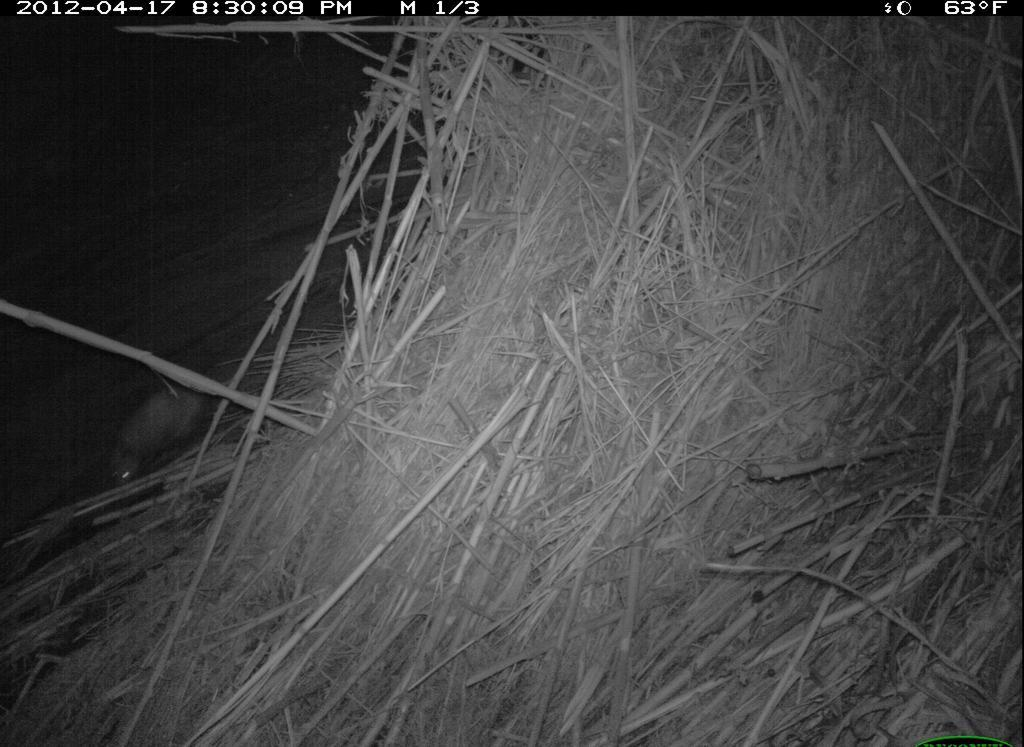opossum: (98, 351, 218, 496)
